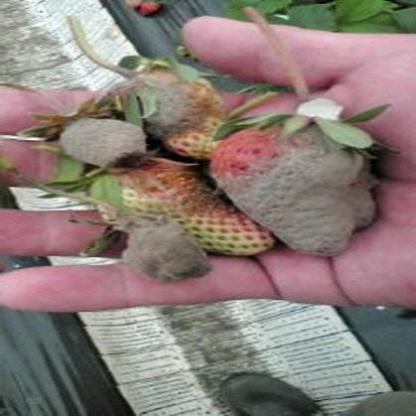Strawberry_Gray_Mold: (209, 118, 380, 258), (88, 158, 274, 248), (108, 68, 231, 140), (118, 218, 212, 282), (58, 114, 150, 170)
